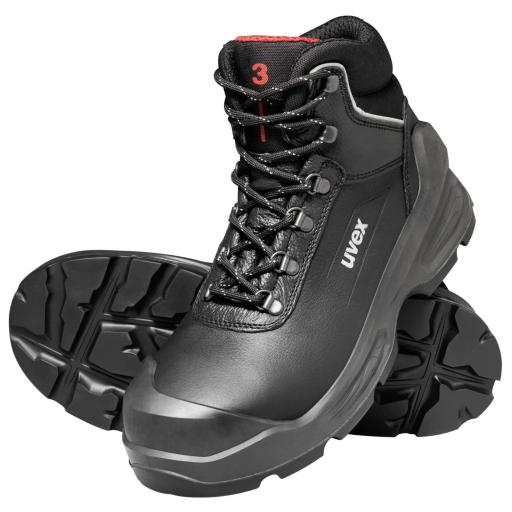safety_boots: (122, 12, 495, 500)
